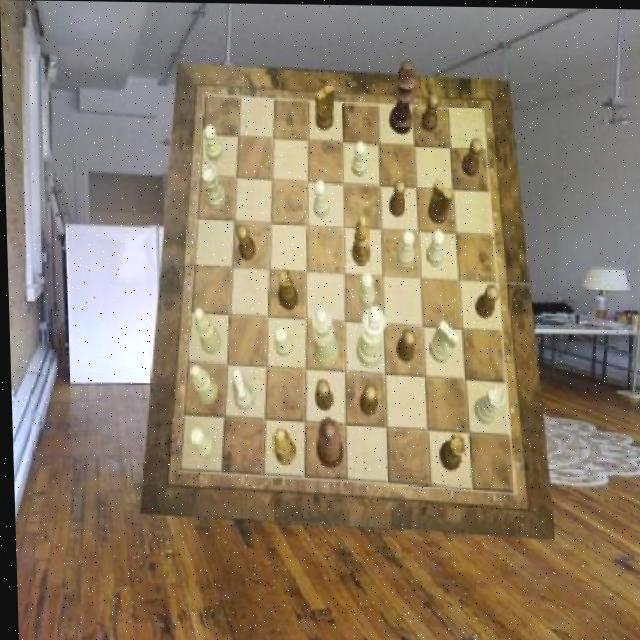bishop: (349, 213, 369, 264), (270, 428, 294, 466)
black-bishop: (386, 60, 417, 134)
black-king: (426, 177, 451, 223), (313, 82, 333, 130)
black-knight: (472, 284, 497, 318), (461, 138, 482, 175), (235, 224, 254, 262), (419, 93, 438, 131), (394, 327, 414, 362), (388, 178, 406, 216), (356, 384, 376, 417), (312, 377, 331, 410)
black-pawn: (312, 416, 340, 469)
black-queen: (435, 431, 463, 469), (275, 268, 296, 311)
black-rook: (191, 307, 219, 353), (187, 365, 215, 404)
white-bishop: (352, 302, 384, 365)
white-king: (426, 319, 457, 361), (229, 367, 253, 409)
white-knight: (187, 427, 211, 460), (425, 228, 445, 266), (395, 229, 414, 265), (310, 179, 328, 217), (349, 140, 367, 176), (204, 124, 222, 160), (355, 272, 373, 307), (271, 325, 289, 356)
white-pawn: (310, 307, 338, 369)
white-queen: (470, 386, 502, 423), (201, 164, 225, 209)
